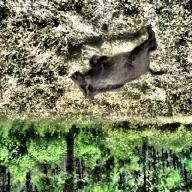boar: (68, 19, 166, 106)
